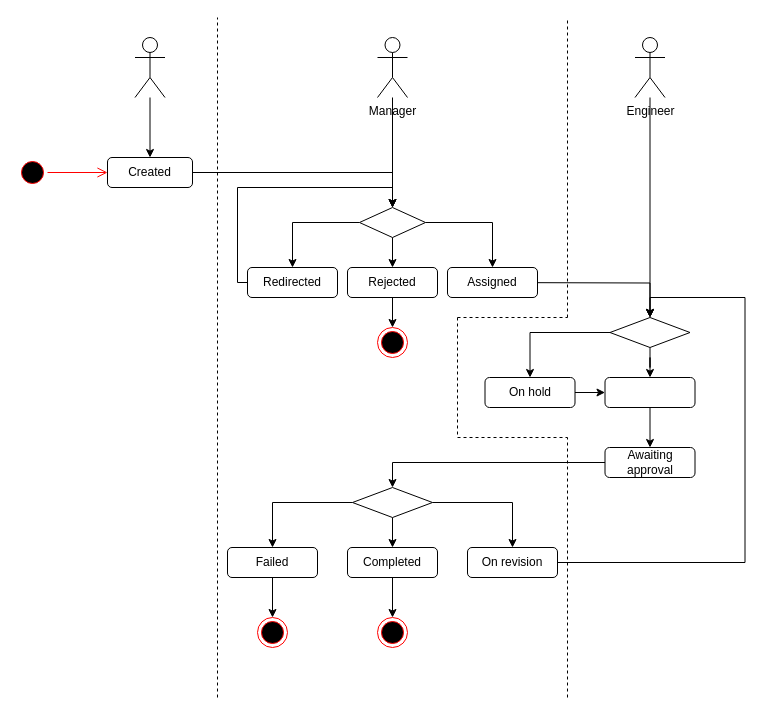
Image size: 771x716. Some labels were removed from this diagram. The shapes that lost their labels are listed below. From the top down, each one's centre as x and y in pixels, then its label:
At [149,67]: "Inspector".
At [649,392]: "In progress".
